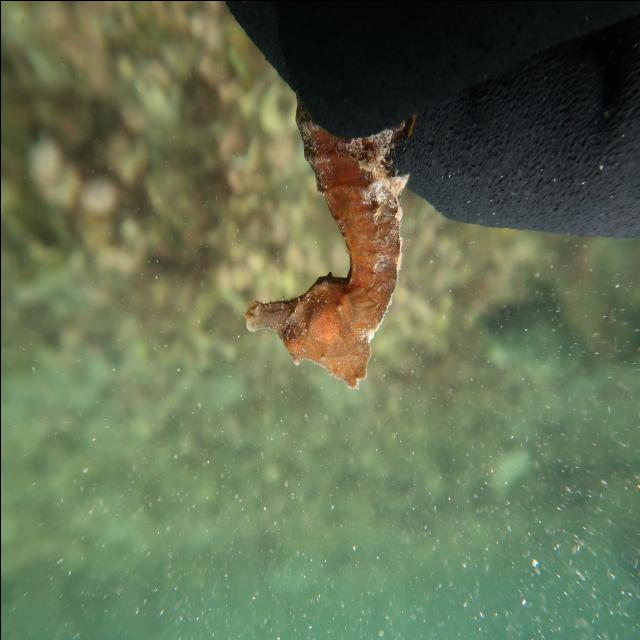Hippo: (238, 262, 378, 392)
